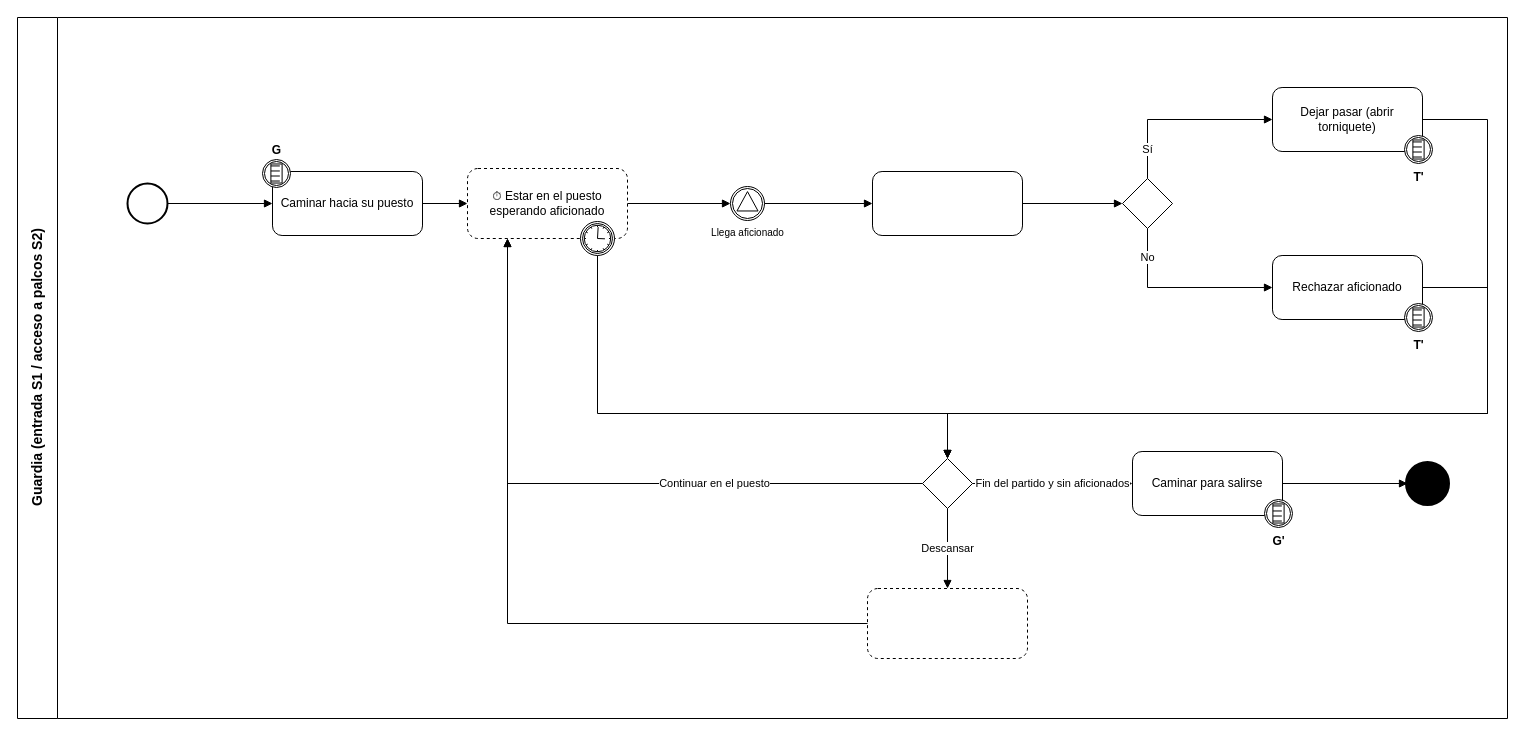
The diagram is 1525 pixels wide and 736 high, and some of its shapes have lost their labels. Here are the shapes that lost their labels. From the top down, the centre of each, then its label:
point (947, 203): Revisar boleto
point (1147, 203): ¿Válido y zona correcta?
point (597, 238): Nadie llega
point (947, 483): Zona de decisión
point (947, 623): ⏱ Tomar un descanso
